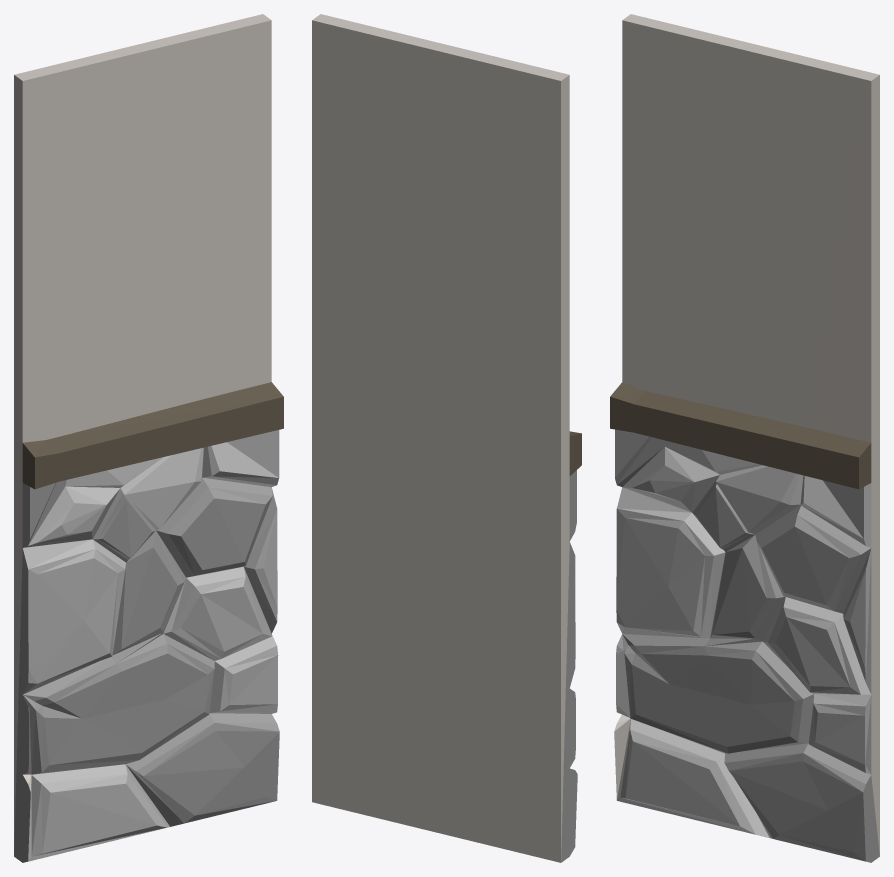
The model's file is _WALL_04_1.fbx.
3 views of the same model, side by side, from view 1: azimuth 30°, elevation 25°; view 2: azimuth 150°, elevation 25°; view 3: azimuth 330°, elevation 25° (orthographic).
Visible parts, largest first — view 1: WALL_04_1; view 2: WALL_04_1; view 3: WALL_04_1.
Boxes of the visible parts, x1,y1,x2,y2 form: WALL_04_1: [14, 14, 283, 862]; WALL_04_1: [312, 14, 581, 862]; WALL_04_1: [610, 14, 879, 862].
Bounding box in the file's own units: 100 × 300 × 14.45.
